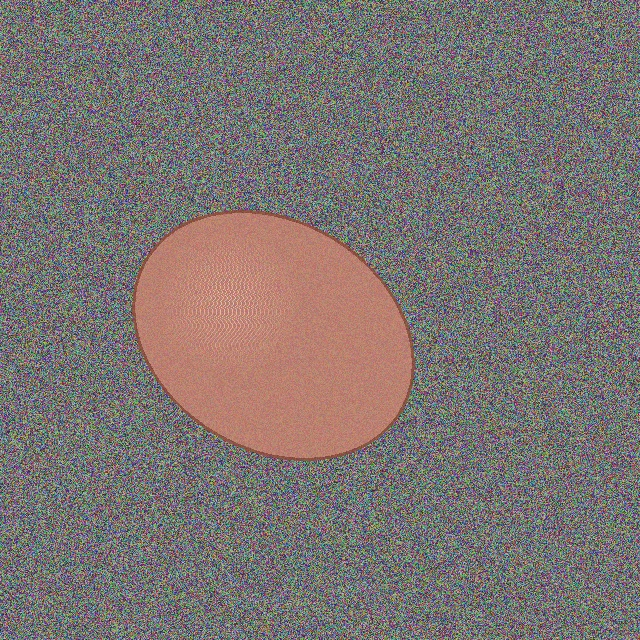lens: (134, 212, 412, 458)
